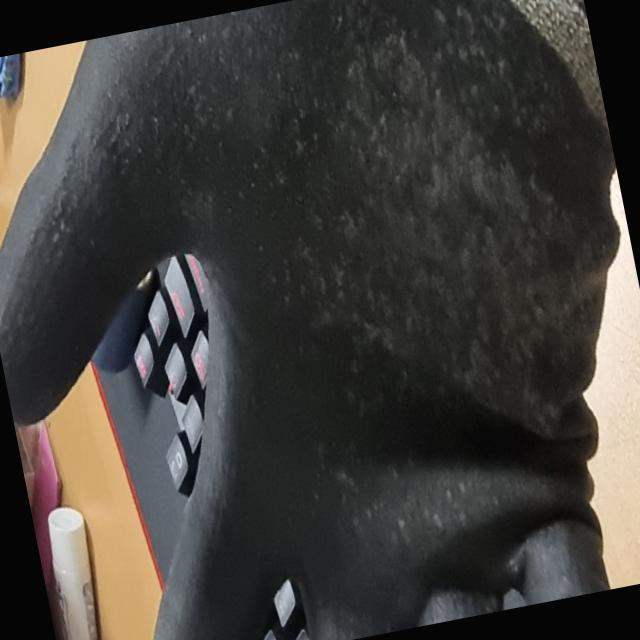Gloves: (4, 0, 640, 632)
